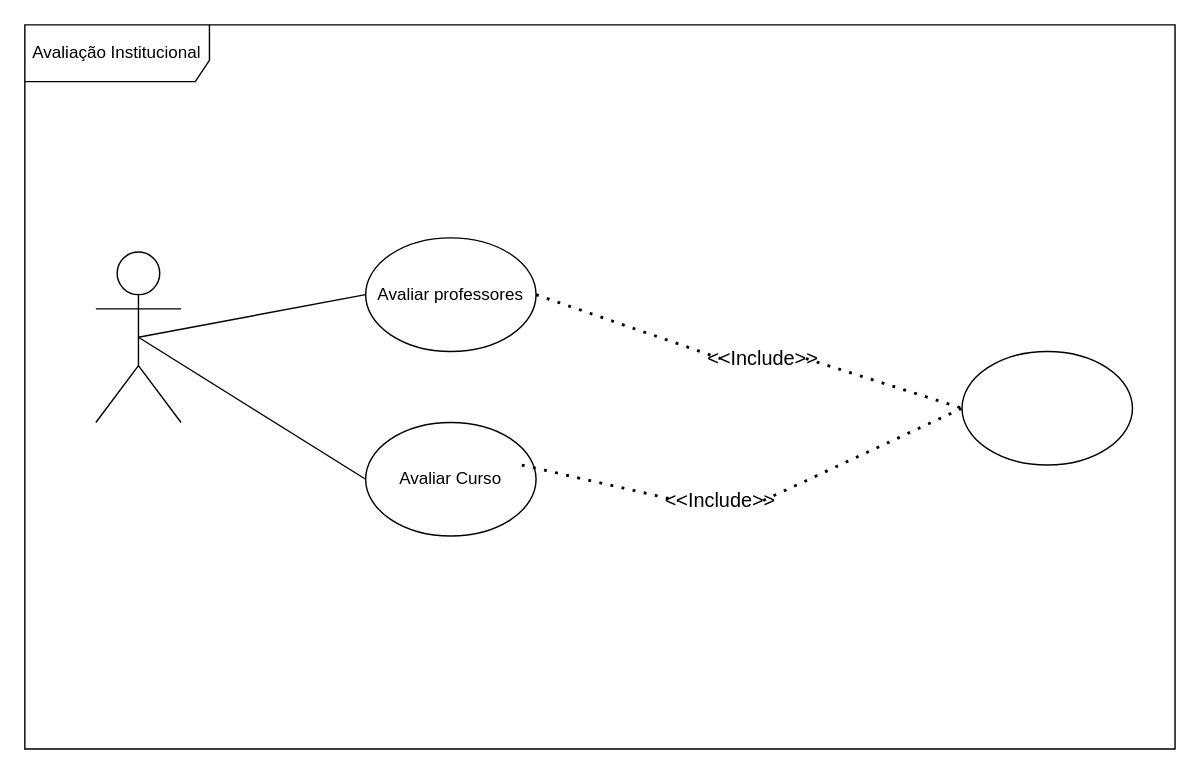
Some shapes in this 1200 by 774 pixel diagram are drawn without their labels. The shapes that lost their labels are listed below. From the top down, each one's box as (x1, y1, x2, y2) in pixels, then its label:
(94, 251, 181, 422): Actor
(961, 350, 1132, 465): Fazer login
